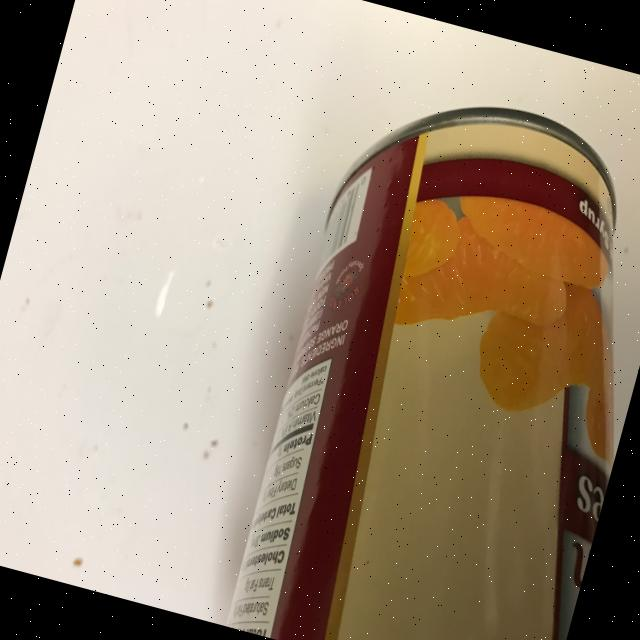metal: (218, 67, 640, 640)
